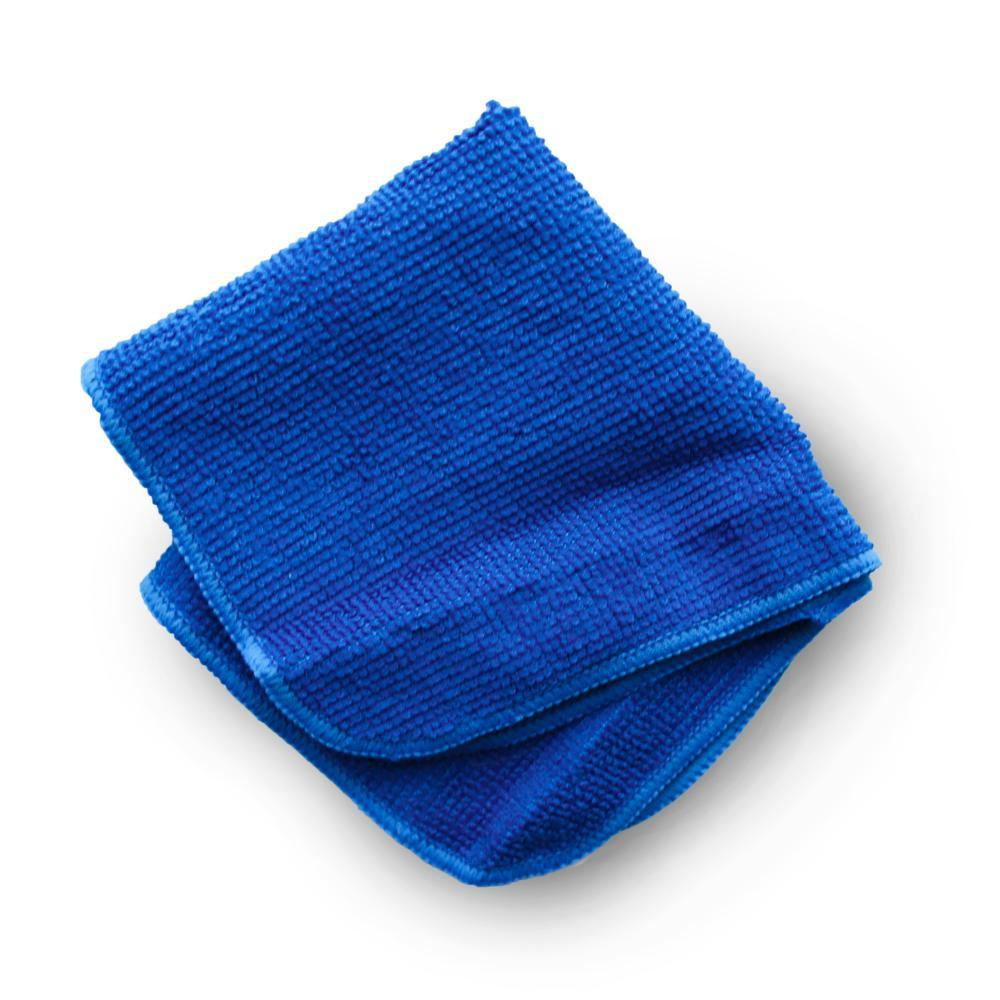towel: (73, 90, 898, 905)
